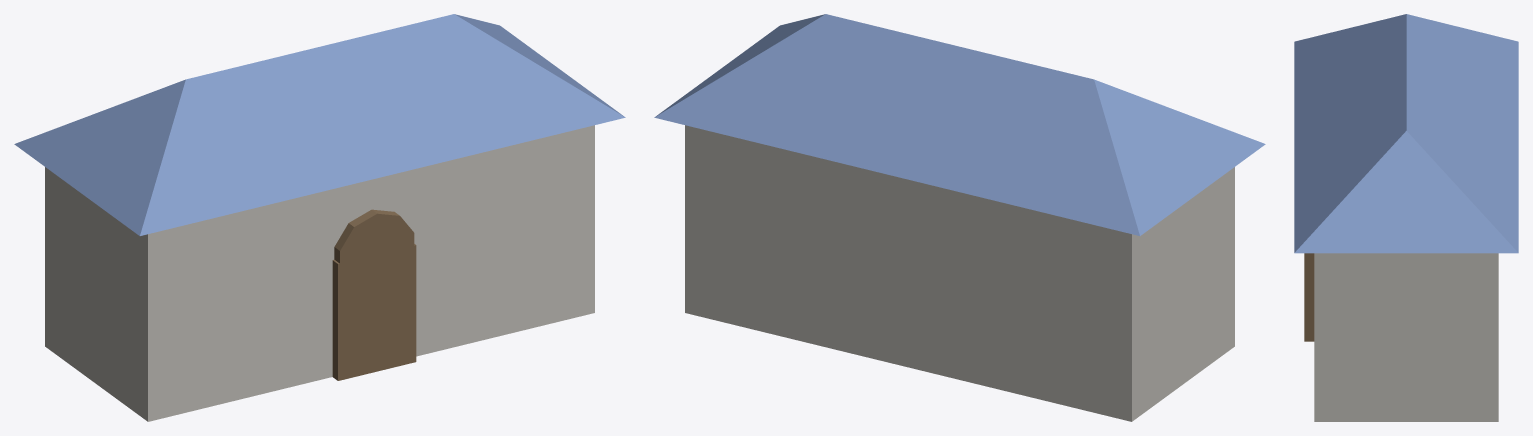
3 renders of one model, left to right at view 1: azimuth 30°, elevation 25°; view 2: azimuth 150°, elevation 25°; view 3: azimuth 270°, elevation 25°, orthographic. The views are drawn at different scales.
Parts seen in each view (by area): view 1: body; view 2: body; view 3: body.
Part boxes in pixels (x1=…): body: x1=14, y1=14, x2=625, y2=421; body: x1=654, y1=14, x2=1265, y2=421; body: x1=1294, y1=14, x2=1518, y2=421.
Bounding box in the file's own units: 8.7 × 4.84 × 3.9.
